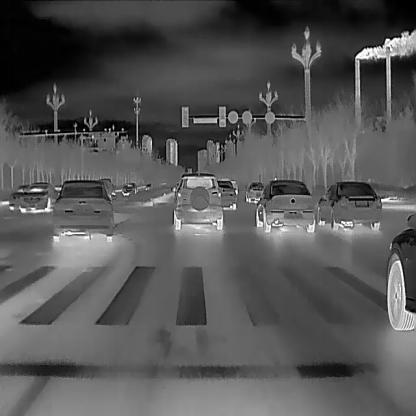car: (50, 178, 116, 244), (386, 210, 416, 330), (254, 178, 315, 232), (316, 180, 381, 230), (170, 172, 223, 229), (18, 180, 60, 212), (214, 176, 236, 210), (244, 178, 263, 203), (8, 184, 26, 210), (99, 175, 115, 195), (120, 180, 138, 196)
